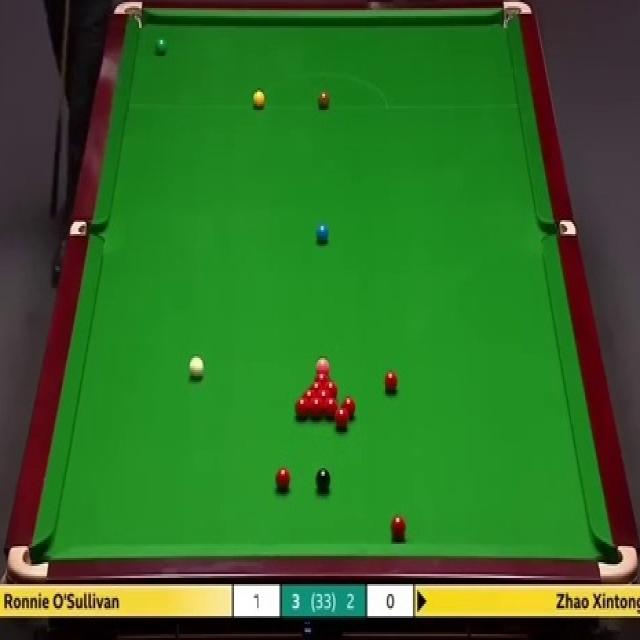black-ball: (316, 468, 332, 494)
blue-ball: (316, 224, 329, 243)
brown-ball: (317, 91, 330, 110)
green-ball: (155, 38, 167, 56)
pink-ball: (315, 356, 329, 368)
red-ball: (389, 515, 406, 542), (274, 466, 291, 492), (324, 397, 339, 420), (384, 371, 398, 395), (294, 396, 309, 418), (334, 408, 348, 431), (342, 396, 356, 419), (309, 396, 323, 418), (325, 380, 338, 396), (312, 370, 330, 380), (308, 380, 324, 390), (316, 389, 332, 397), (302, 389, 316, 398)
white-ball: (188, 351, 205, 382)
yellow-ball: (252, 91, 264, 109)
